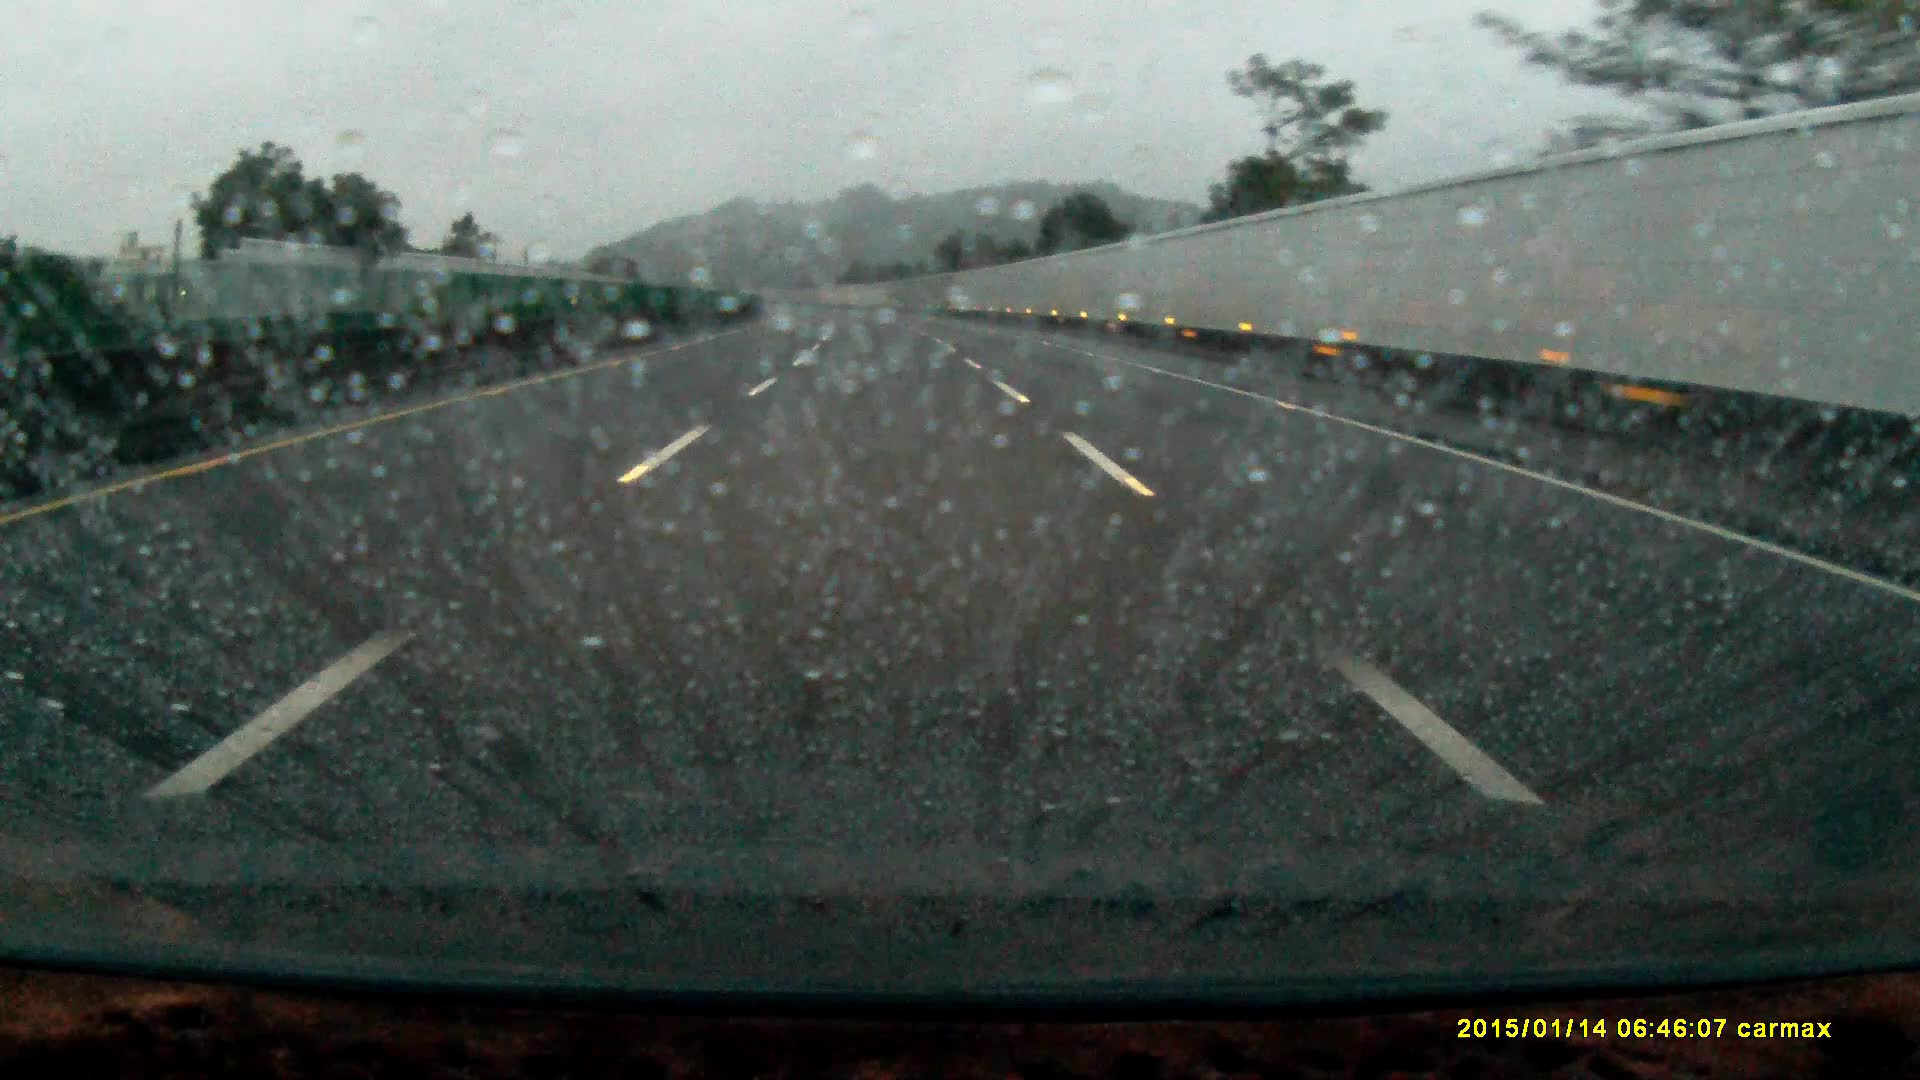vehicle: (421, 291, 495, 328)
